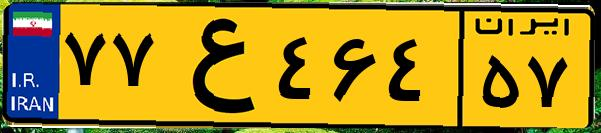4: (270, 28, 330, 110), (385, 28, 445, 110)
5: (475, 38, 525, 113)
6: (330, 28, 385, 110)
7: (57, 26, 110, 100), (525, 38, 570, 115), (110, 28, 158, 98)
ع: (158, 12, 270, 120)
